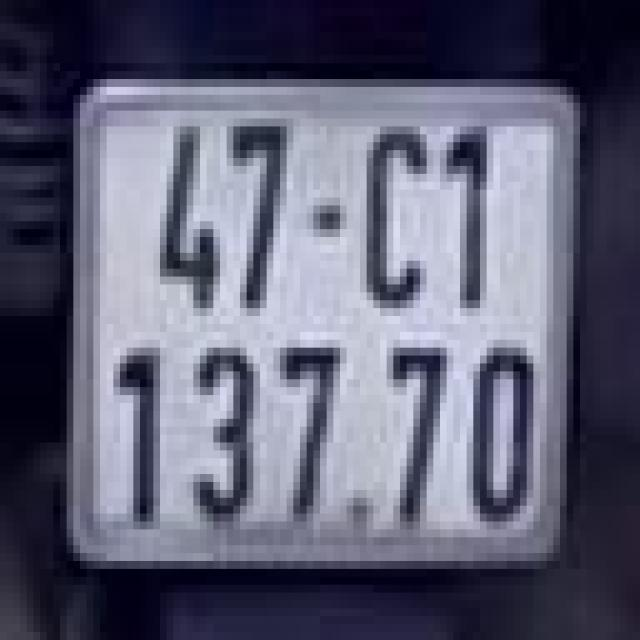0: (464, 304, 544, 541)
1: (440, 118, 507, 324), (114, 324, 174, 545)
3: (187, 320, 260, 549)
4: (157, 111, 223, 324)
7: (367, 324, 453, 553), (223, 95, 297, 324), (273, 312, 347, 541)
C: (350, 114, 450, 328)
